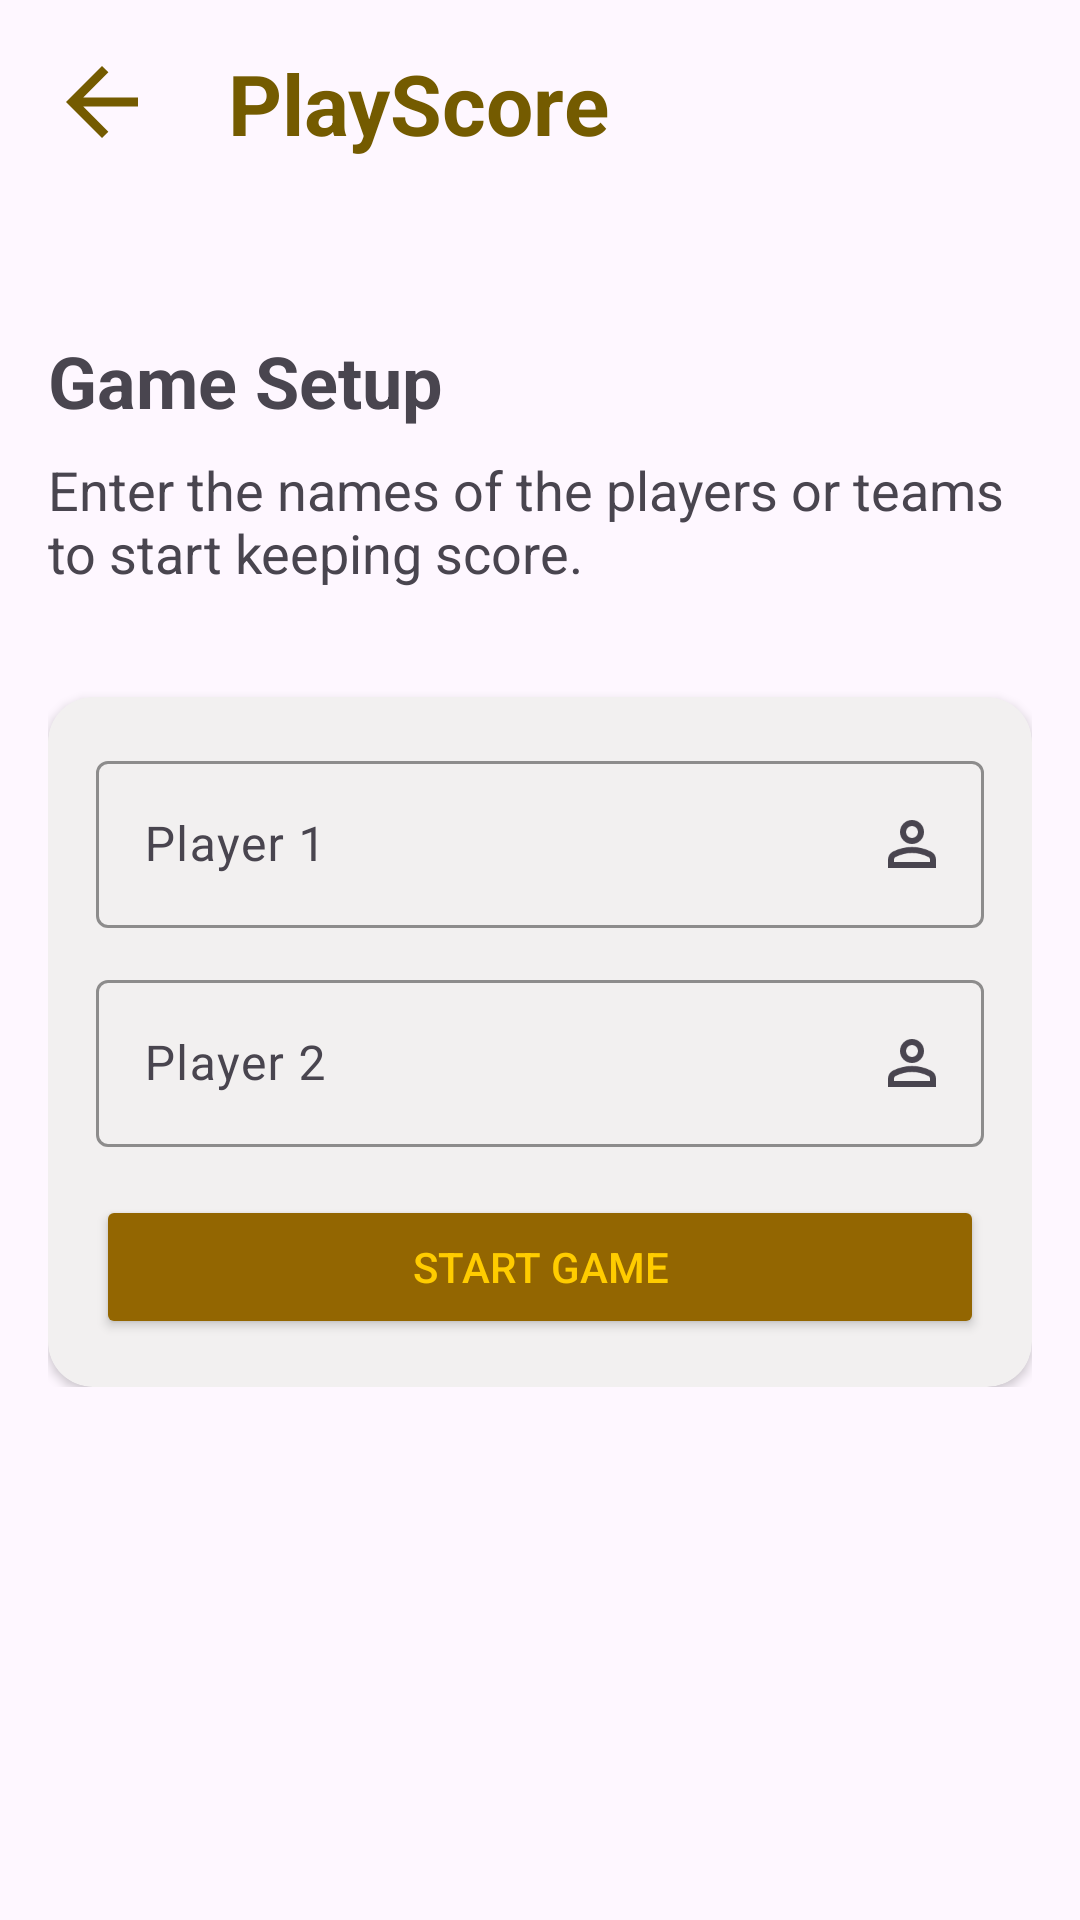

Locate icon controls on the screen. Image size 1080w x 1920h, boxes as (x1, y1, x2, y2).
Back: (66, 66, 138, 138)
